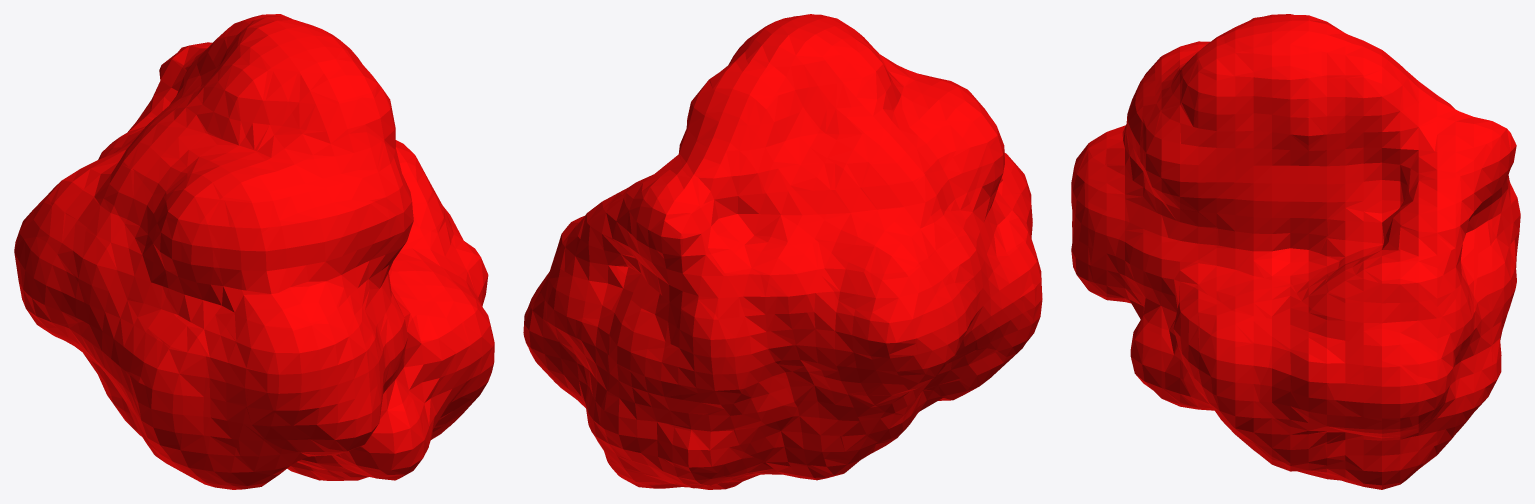
File: tnaA_coarse.dae
3 renders of one model, left to right at view 1: azimuth 30°, elevation 25°; view 2: azimuth 150°, elevation 25°; view 3: azimuth 270°, elevation 25°, orthographic. The views are drawn at different scales.
Visible parts, largest first — view 1: tnaA; view 2: tnaA; view 3: tnaA.
Boxes of the visible parts, left/top/right/bottom form: tnaA: left=14, top=14, right=494, bottom=489; tnaA: left=523, top=14, right=1042, bottom=489; tnaA: left=1071, top=14, right=1520, bottom=489.
Bounding box in the file's own units: 60.83 × 64.13 × 61.32.
